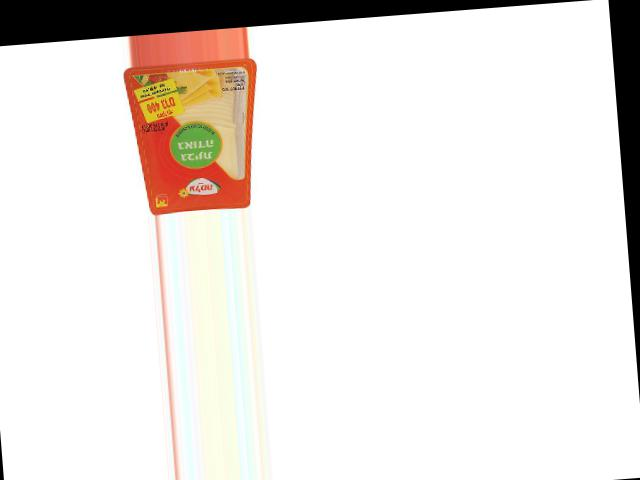cheese: (122, 56, 266, 215)
